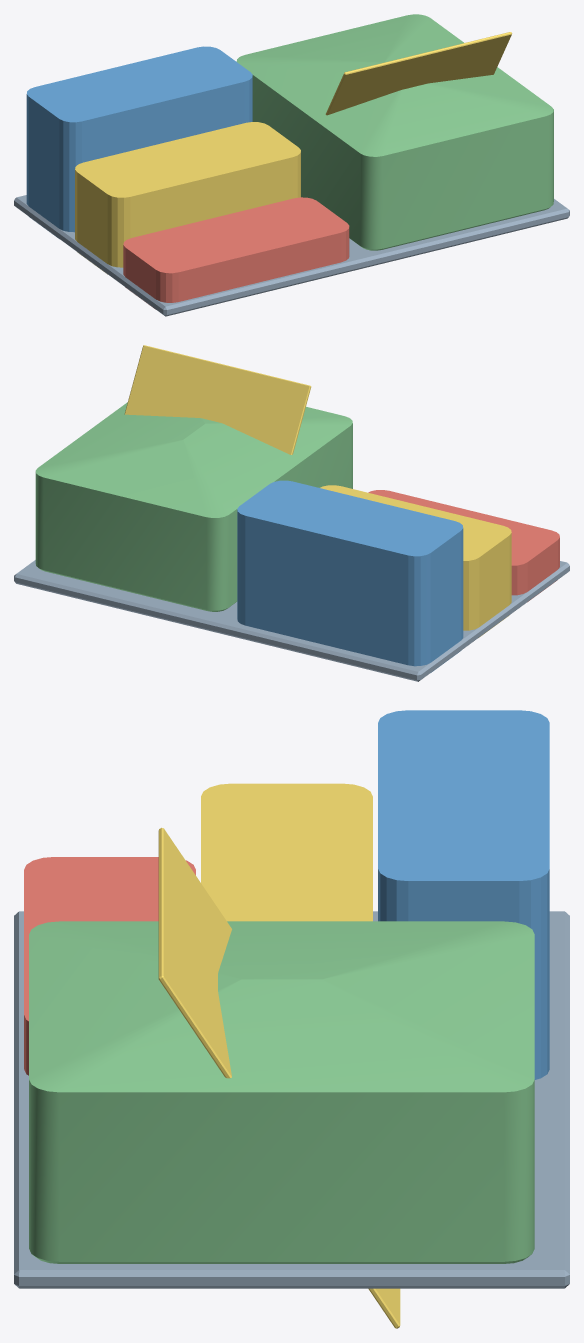
File: nursery-and-primary-classroom-soft-play-steps-and-wedg-b3118544__35008.glb
3 views of the same model, one above another, from view 1: azimuth 30°, elevation 25°; view 2: azimuth 150°, elevation 25°; view 3: azimuth 270°, elevation 25° (orthographic). The views are drawn at different scales.
Parts seen in each view (by area): view 1: soft-play-steps-and-wedge; view 2: soft-play-steps-and-wedge; view 3: soft-play-steps-and-wedge.
Part boxes in pixels (x1,y1,x2,y2): soft-play-steps-and-wedge: (14, 14, 569, 316); soft-play-steps-and-wedge: (14, 345, 569, 681); soft-play-steps-and-wedge: (14, 710, 569, 1328).
Bounding box in the file's own units: 1.7 × 0.7701 × 1.1.
